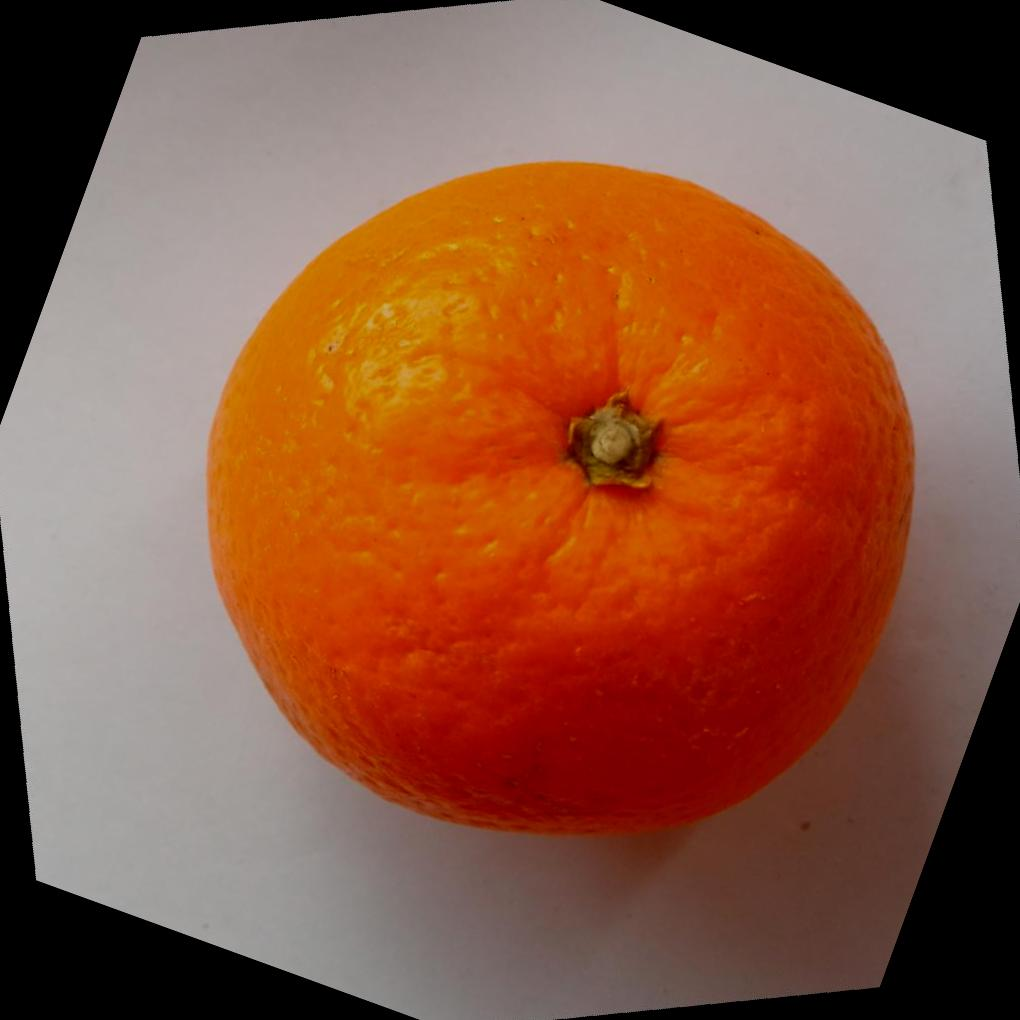FreshGuava: (199, 159, 914, 834)
